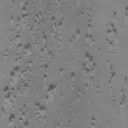oxide scale of temperature system: (0, 0, 118, 126), (108, 64, 128, 105), (47, 84, 57, 92)
